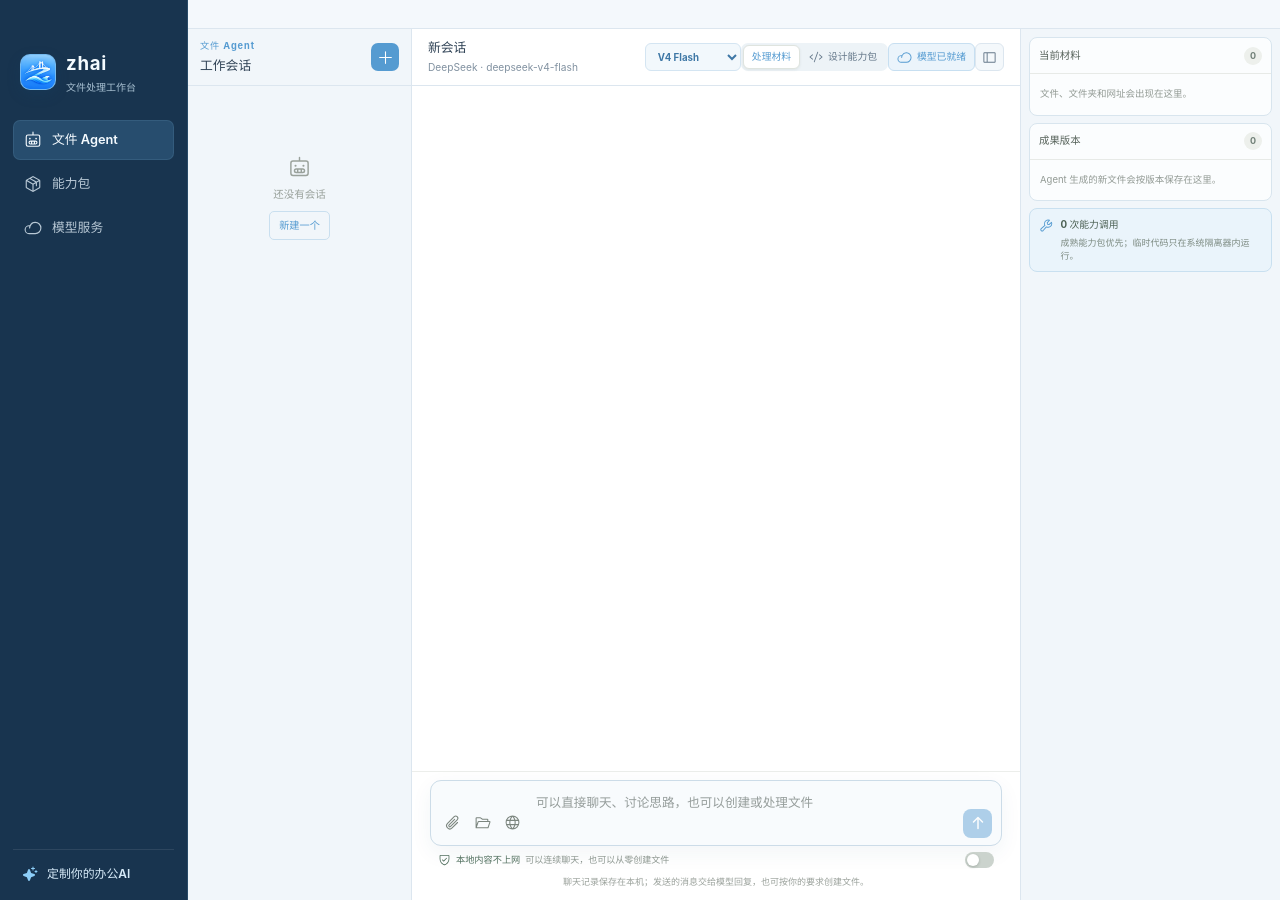
Test: zhai › 能力包设计保留原有三栏对话布局并提供验收引导
The image size is (1280, 900).
Later steps or results of the test are not shown.
Click the button "设计能力包" at (843, 57), box [800, 45, 886, 69]
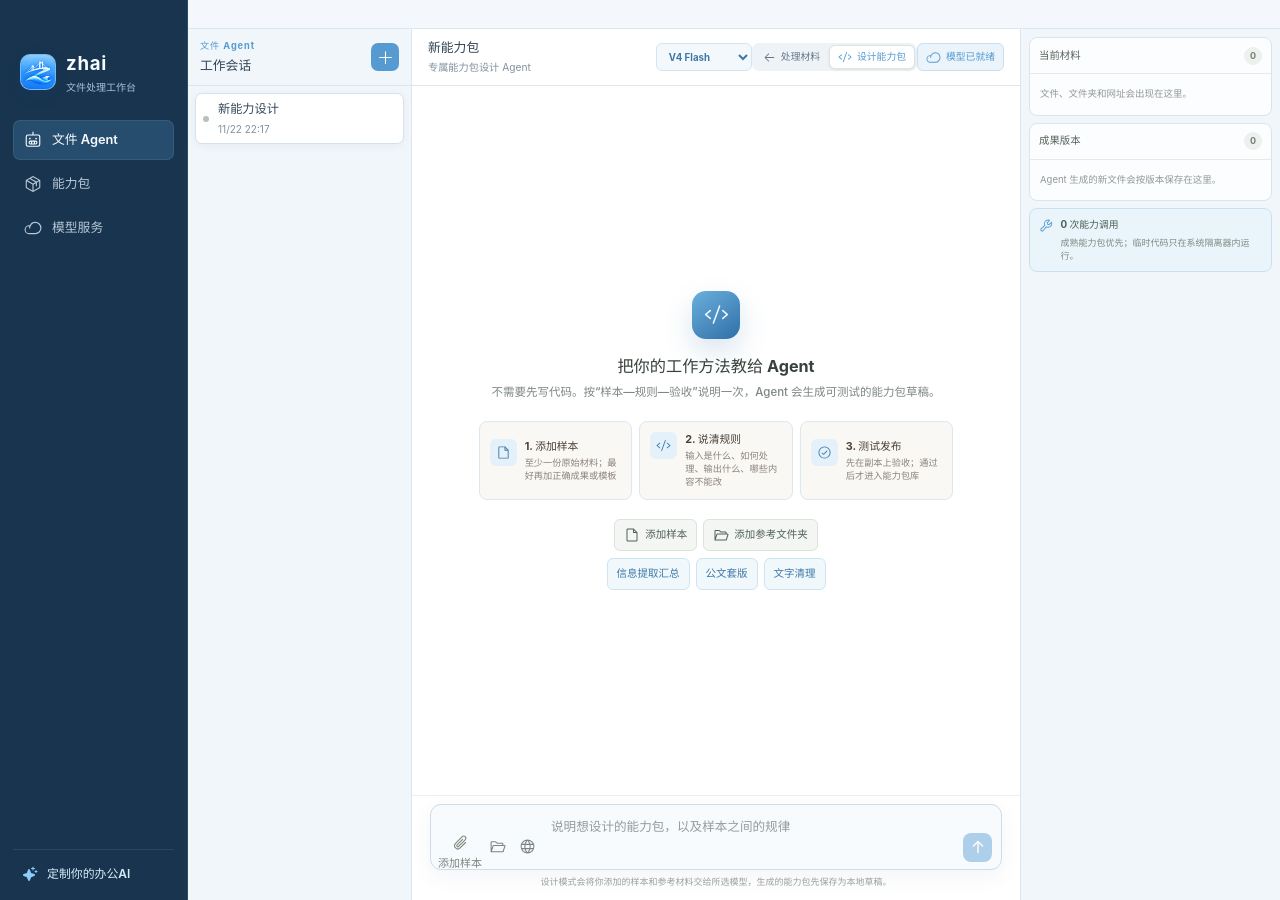
Now the text "1. 添加样本" is shown, box [525, 440, 578, 453]
Now the text "2. 说清规则" is shown, box [685, 433, 741, 446]
Now the text "3. 测试发布" is shown, box [846, 440, 902, 453]
